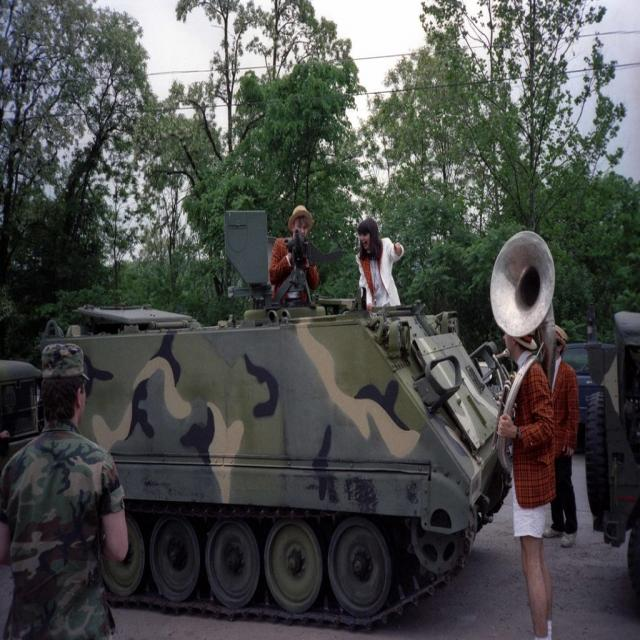tank: (39, 206, 512, 634)
